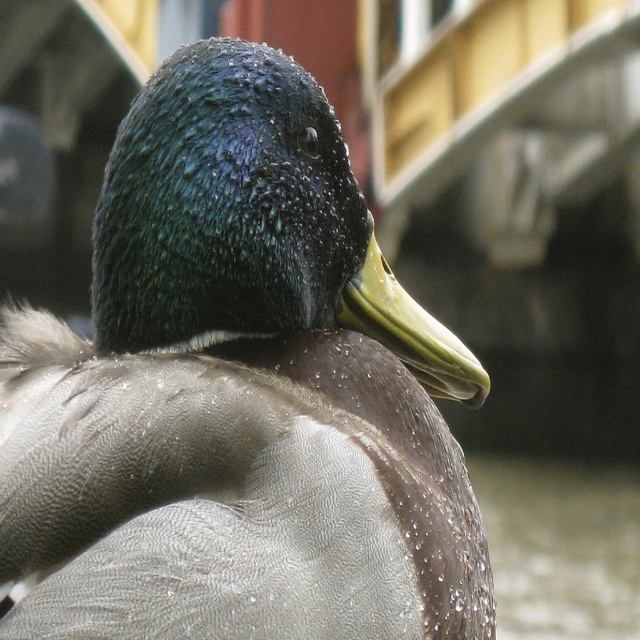Duck: (3, 29, 492, 639)
